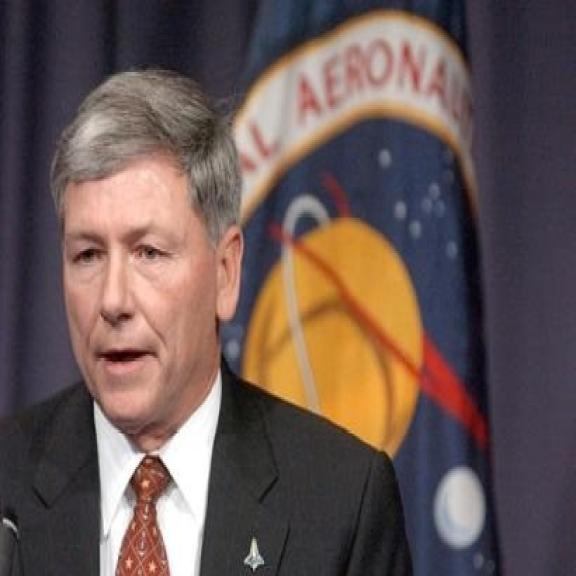face: (55, 135, 244, 437)
